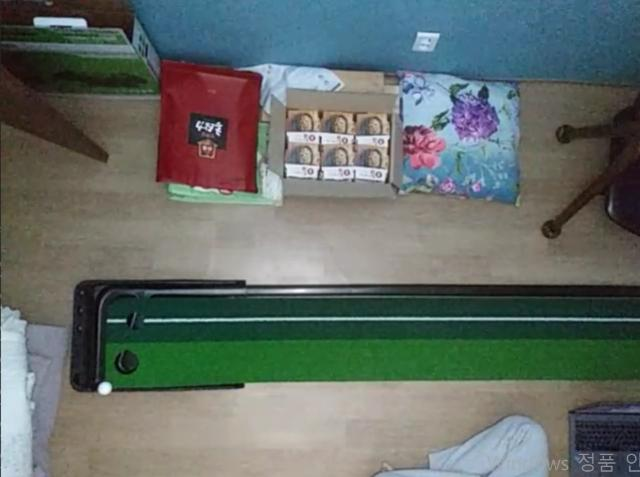golf_ball: (97, 381, 113, 396)
green_zone: (103, 296, 637, 390)
hole: (126, 311, 144, 331)
